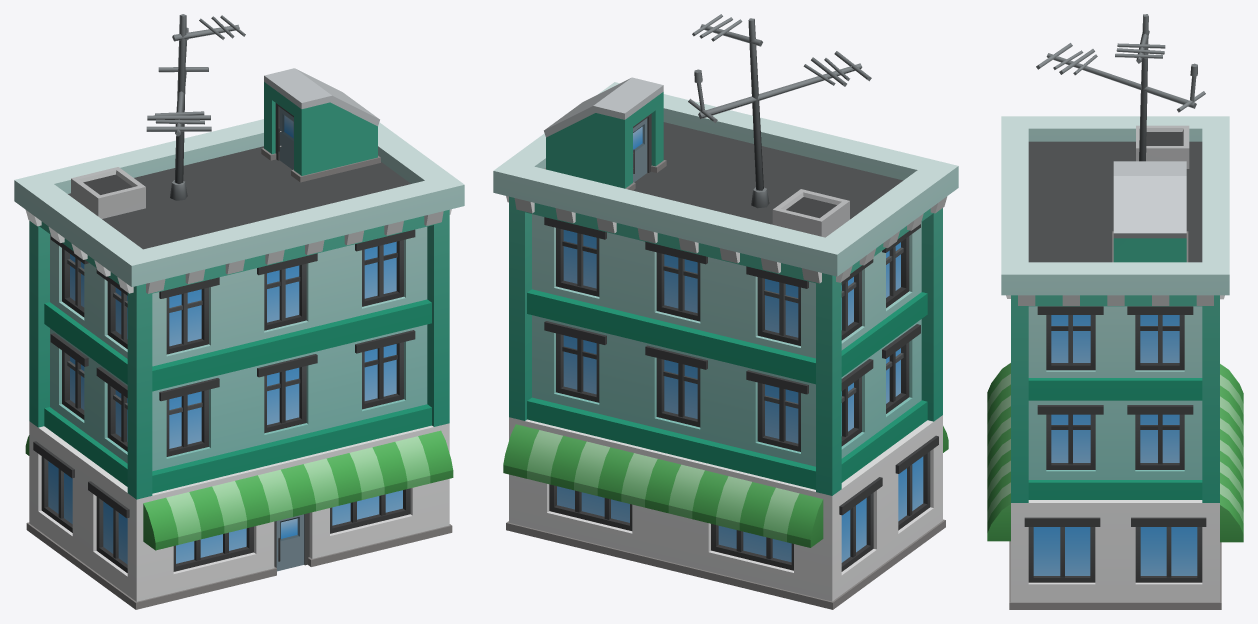
File: residental_building_009.glb
3 renders of one model, left to right at view 1: azimuth 30°, elevation 25°; view 2: azimuth 150°, elevation 25°; view 3: azimuth 270°, elevation 25°, orthographic. The views are drawn at different scales.
Visible parts, largest first — view 1: residental_building_009; view 2: residental_building_009; view 3: residental_building_009.
Part boxes in pixels (box(x1,y1,x2,y2)): residental_building_009: box(14, 14, 464, 609); residental_building_009: box(493, 14, 958, 609); residental_building_009: box(987, 14, 1243, 609).
Bounding box in the file's own units: 14.02 × 20.71 × 9.61.
Materials: 1 (1 with a texture image).
